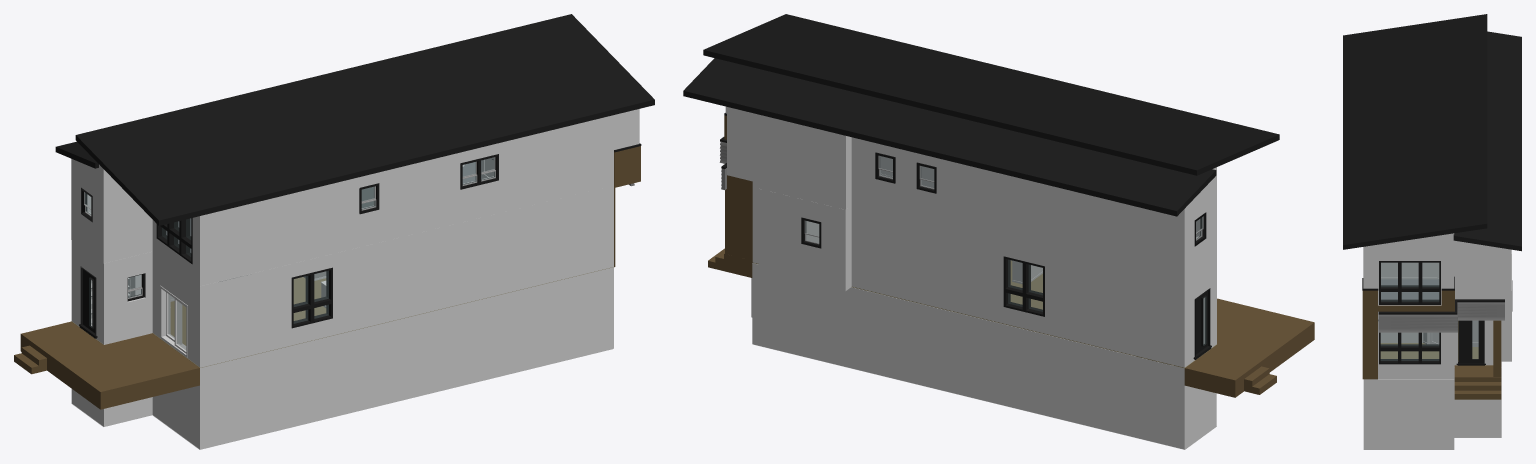
File: eastridge-5b.gltf
The picture shows the model from 3 angles, left to right: view 1: azimuth 30°, elevation 25°; view 2: azimuth 150°, elevation 25°; view 3: azimuth 270°, elevation 25°; orthographic projection. The views are drawn at different scales.
Visible parts, largest first — view 1: roof_big:PIV, pCube250:PIV, pCube5:PIV, main_top_floor:PIV, back_deck:PIV, main_floor|floor_main:PIV, pCube219:PIV, pCube222:PIV, main_window3:PIV, pCube488:PIV, pCube227:PIV, pCube239:PIV; view 2: pCube5:PIV, pCube250:PIV, main_top_floor:PIV, roof_big:PIV, roof_small:PIV, back_deck:PIV, pCube107:PIV, pCube221:PIV, pCube223:PIV, main_floor|floor_main:PIV, pCube227:PIV; view 3: roof_big:PIV, pCube5:PIV, roof_small:PIV, main_top_floor:PIV, pCube250:PIV, pCube486:PIV, main_window2:PIV, pCube488:PIV, main_window:PIV, pCube487:PIV, pCube106:PIV, pCube80:PIV (+15 smaller).
Part boxes in pixels (box(x1,y1,x2,y2)): roof_big:PIV: box(75, 14, 654, 225); pCube250:PIV: box(71, 185, 613, 367); pCube5:PIV: box(71, 267, 613, 449); main_top_floor:PIV: box(71, 109, 639, 286); back_deck:PIV: box(20, 321, 199, 409); main_floor|floor_main:PIV: box(71, 267, 613, 367); pCube219:PIV: box(291, 267, 332, 328); pCube222:PIV: box(294, 271, 328, 323); main_window3:PIV: box(156, 218, 192, 264); pCube488:PIV: box(614, 146, 640, 187); pCube227:PIV: box(81, 268, 95, 335); pCube239:PIV: box(160, 285, 187, 357); pCube5:PIV: box(751, 263, 1216, 449); pCube250:PIV: box(752, 181, 1216, 367); main_top_floor:PIV: box(725, 106, 1216, 286); roof_big:PIV: box(703, 14, 1279, 175); roof_small:PIV: box(683, 58, 1216, 216); back_deck:PIV: box(1184, 298, 1314, 397); pCube107:PIV: box(725, 175, 752, 260); pCube221:PIV: box(1003, 256, 1044, 316); pCube223:PIV: box(1008, 260, 1042, 311); main_floor|floor_main:PIV: box(753, 260, 1216, 368); pCube227:PIV: box(1195, 289, 1209, 356); roof_big:PIV: box(1343, 14, 1487, 249); pCube5:PIV: box(1363, 367, 1501, 449); roof_small:PIV: box(1453, 31, 1521, 251); main_top_floor:PIV: box(1363, 233, 1511, 319); pCube250:PIV: box(1378, 254, 1511, 378); pCube486:PIV: box(1378, 302, 1504, 332); main_window2:PIV: box(1379, 261, 1440, 304); pCube488:PIV: box(1362, 290, 1454, 321); main_window:PIV: box(1379, 332, 1440, 364); pCube487:PIV: box(1362, 321, 1377, 379); pCube106:PIV: box(1459, 320, 1483, 363); pCube80:PIV: box(1381, 262, 1436, 277).
Size of what is drawn, in the model's own units: 15.73 by 7.41 by 5.03.
